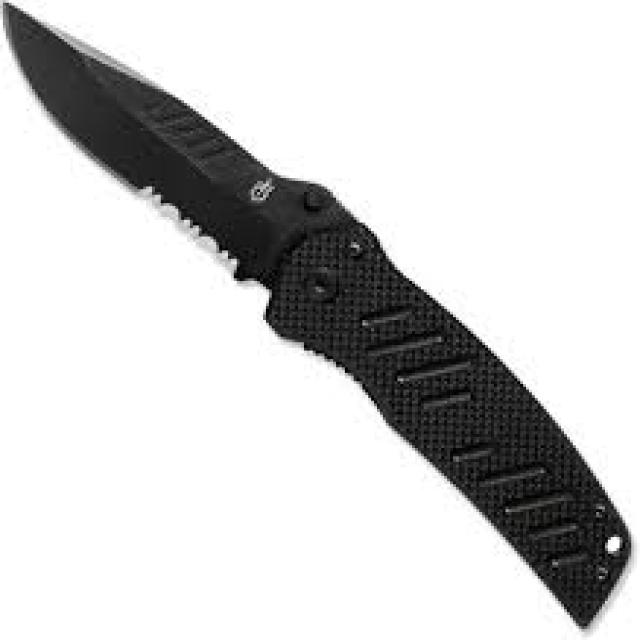knife: (2, 1, 639, 640)
